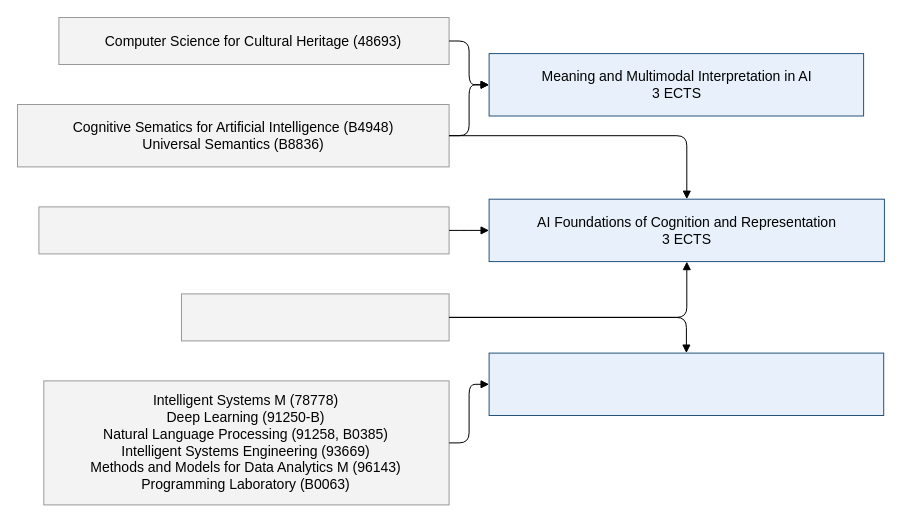
Image size: 902x523. Some labels were removed from this diagram. The centre of each missing label's shape, as x and y in pixels:
Artificial intelligence (90147): (x=314, y=317)
Computational Methods and Explainability in AI 3 ECTS: (x=686, y=384)
METODOLOGIE E TECNICHE DI SIMULAZIONE (B0070): (x=243, y=230)
